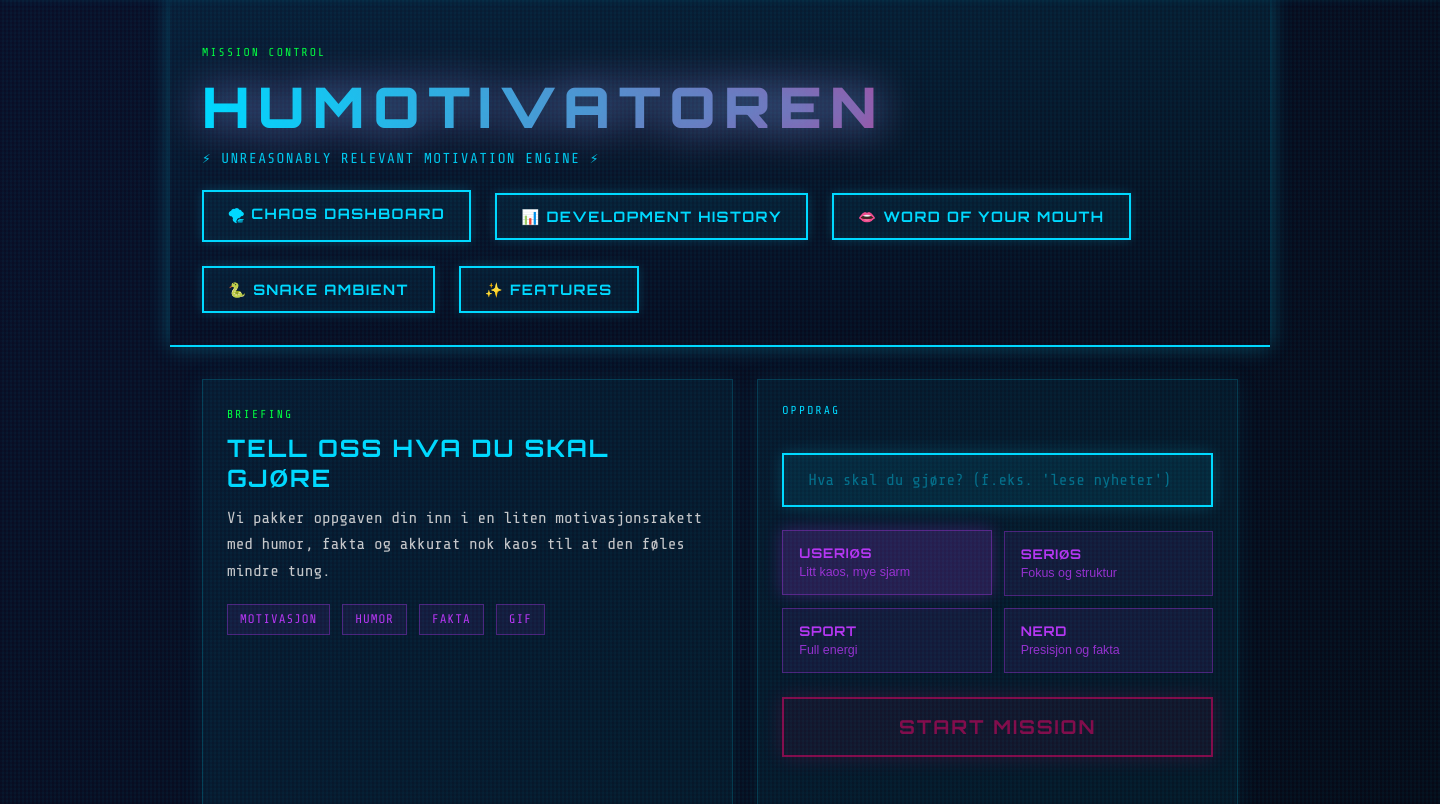
Test: App › submits the motivation form with the selected tone
In the field: (998, 480) [782,453,1213,507], type "lese nyheter"
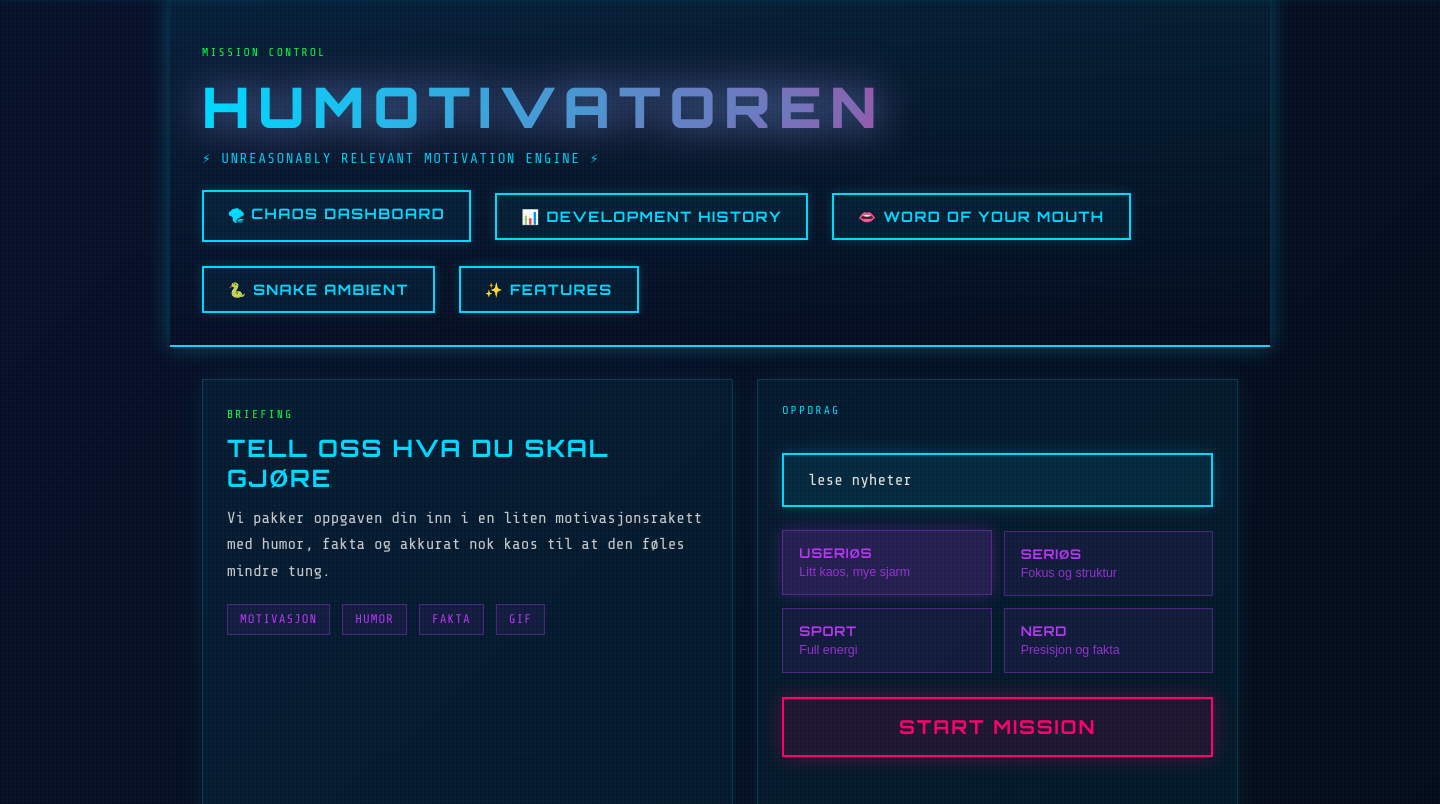
Click the button "Sport Full energi": (887, 640) [782,608,992,673]
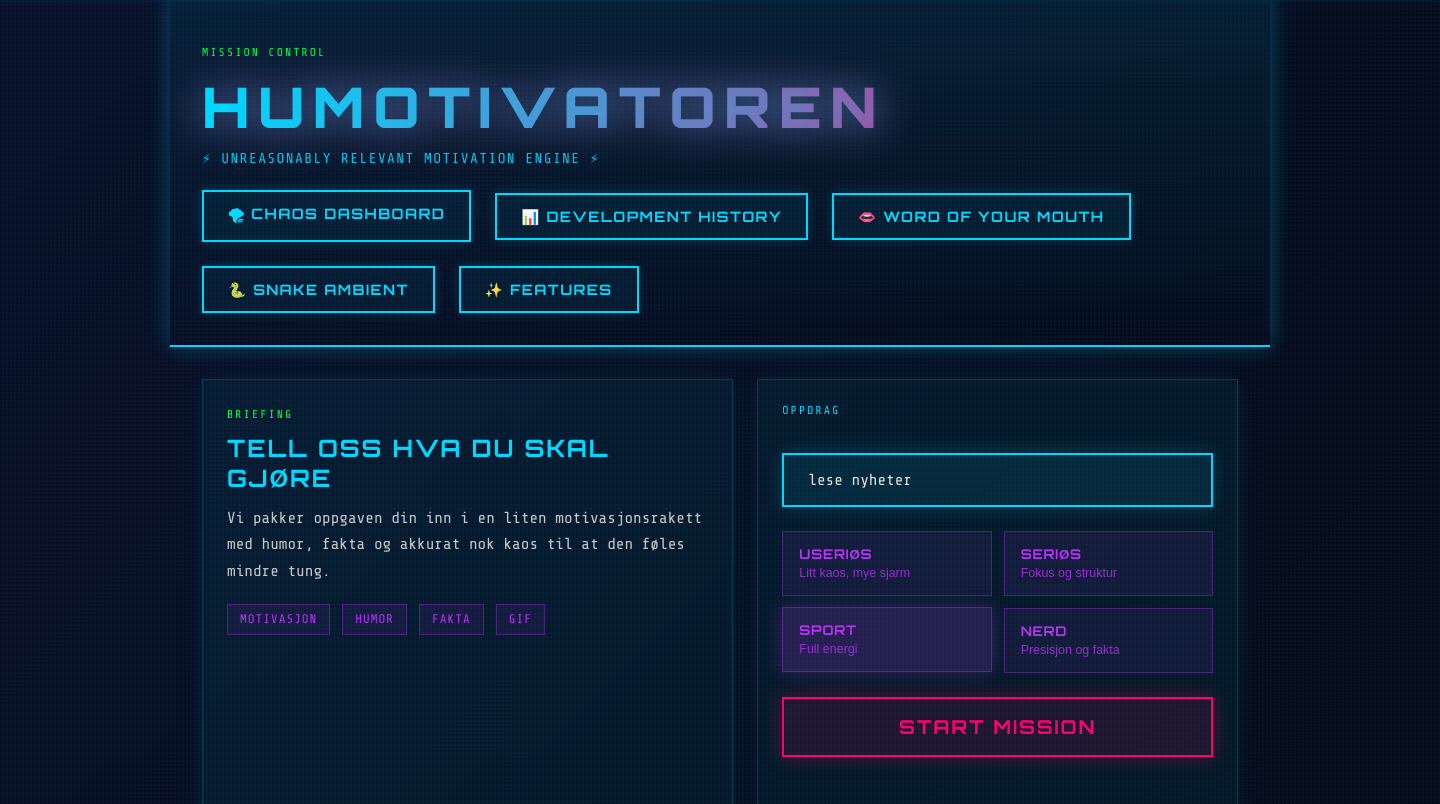
Click the button "Start mission": (998, 727) [782,697,1213,757]
(page scrolled)
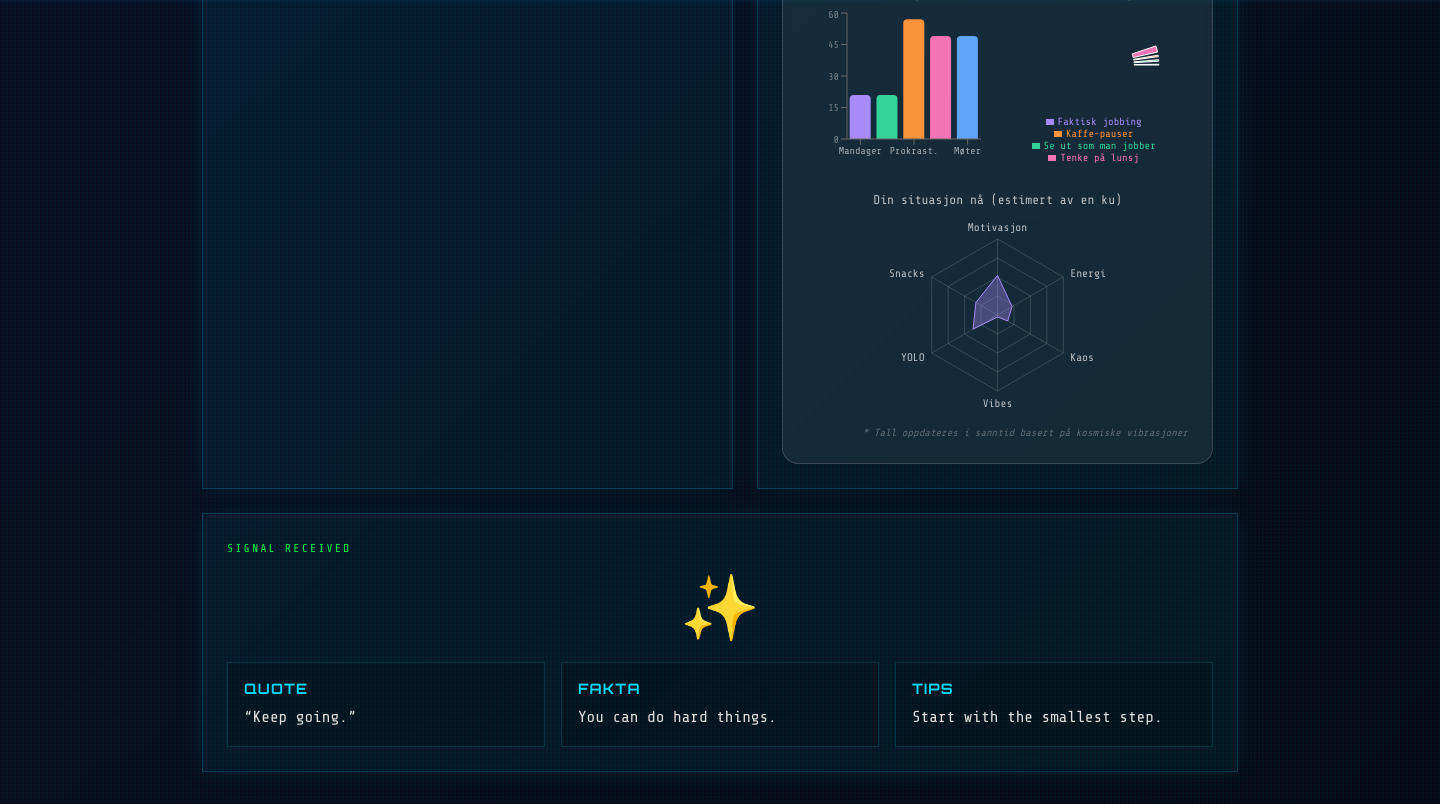
Check: the text "“Keep going.”" is shown, box [244,708,356,726]
